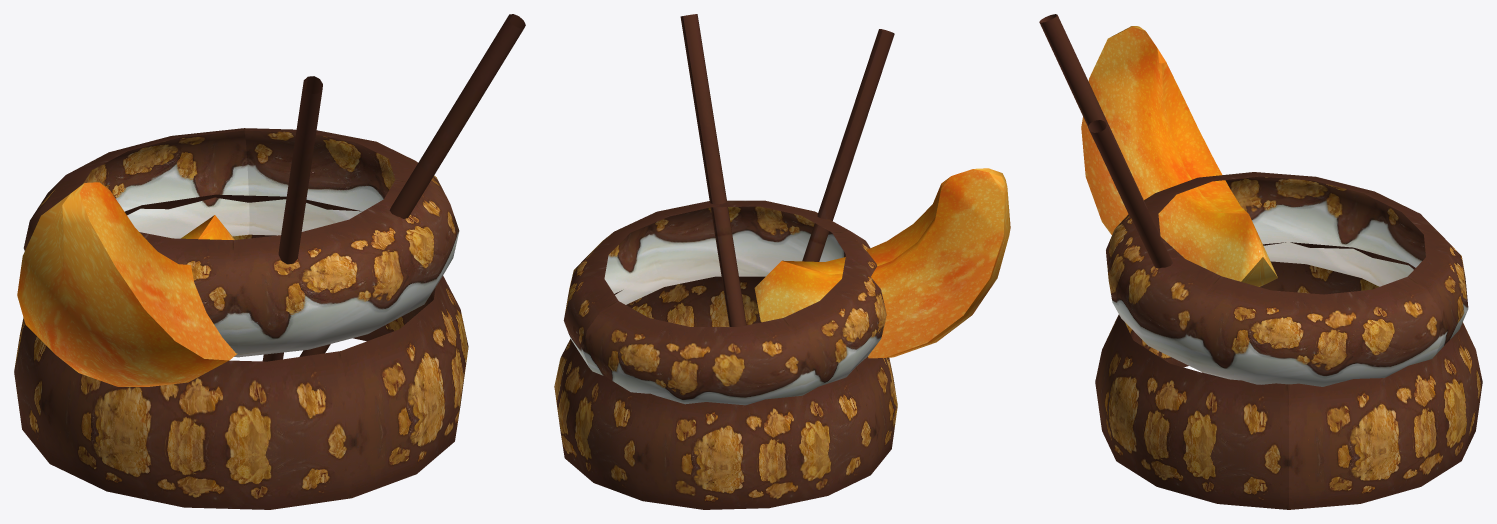
Rendered from creamlong.obj.
3 views of the same model, side by side, from view 1: azimuth 30°, elevation 25°; view 2: azimuth 150°, elevation 25°; view 3: azimuth 270°, elevation 25° (orthographic). The views are drawn at different scales.
Parts seen in each view (by area): view 1: event_obj_kt3_chocolatesundae_root_000_ncl1_1.006; view 2: event_obj_kt3_chocolatesundae_root_000_ncl1_1.006; view 3: event_obj_kt3_chocolatesundae_root_000_ncl1_1.006.
Boxes of the visible parts, x1,y1,x2,y2 form: event_obj_kt3_chocolatesundae_root_000_ncl1_1.006: (14, 14, 525, 509); event_obj_kt3_chocolatesundae_root_000_ncl1_1.006: (554, 14, 1010, 509); event_obj_kt3_chocolatesundae_root_000_ncl1_1.006: (1039, 14, 1482, 509).
Bounding box in the file's own units: 43.34 × 38.59 × 40.06.
